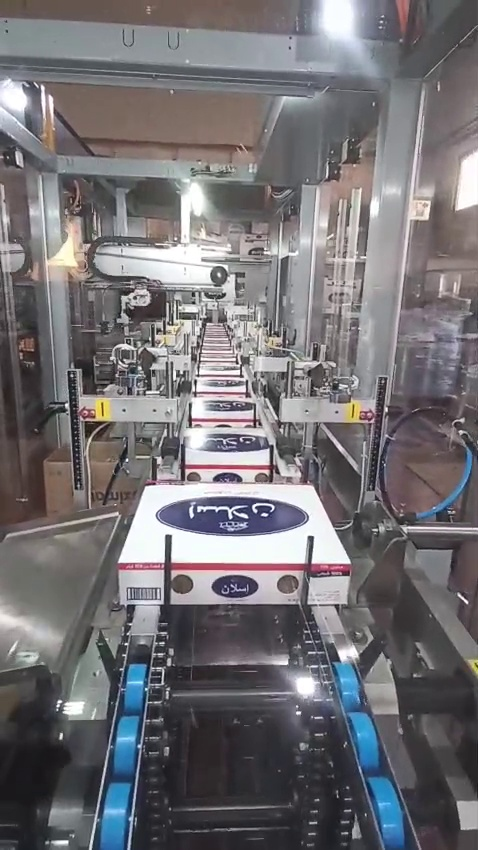savon: (80, 91, 246, 144), (0, 0, 188, 21), (85, 397, 118, 504), (46, 450, 74, 509), (62, 232, 85, 284), (342, 399, 364, 429), (42, 118, 56, 151), (0, 692, 19, 716), (232, 0, 256, 14), (464, 657, 478, 677), (59, 507, 76, 521)
